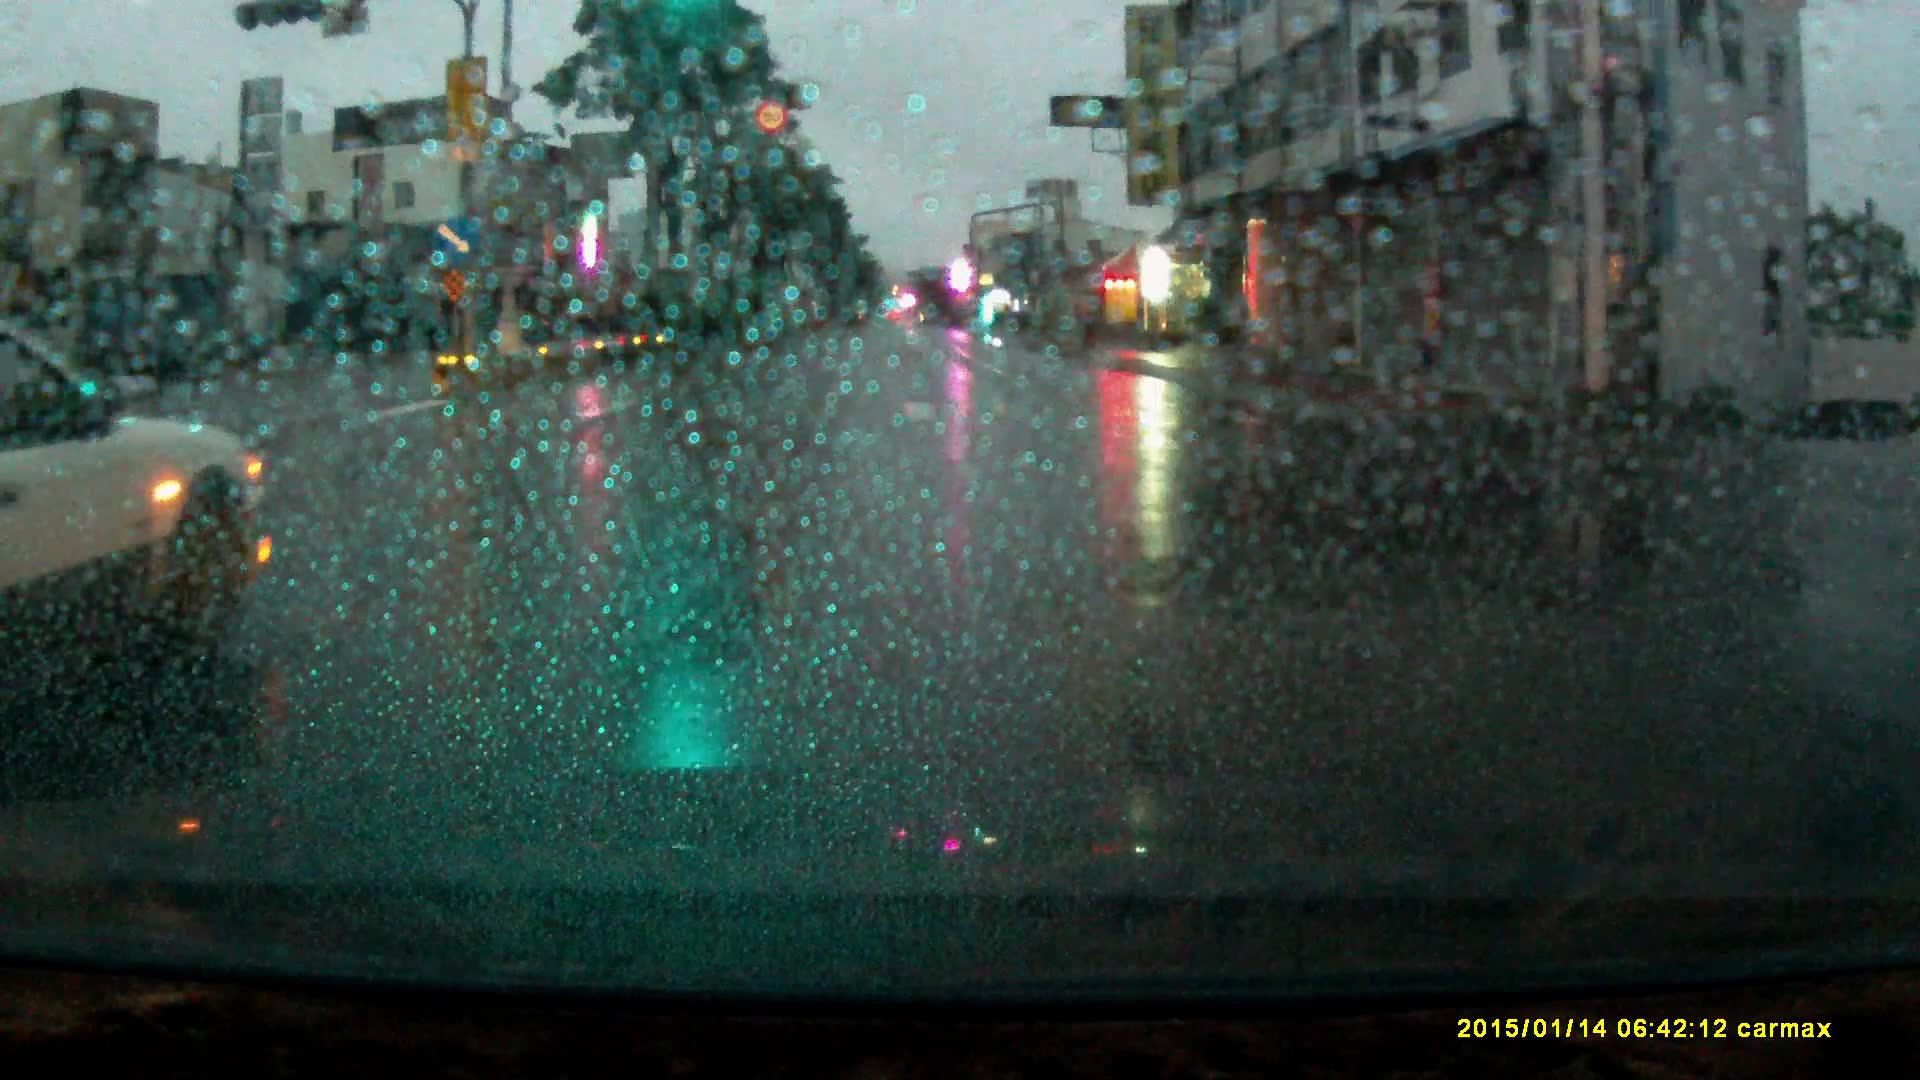vehicle: (1, 313, 272, 682)
